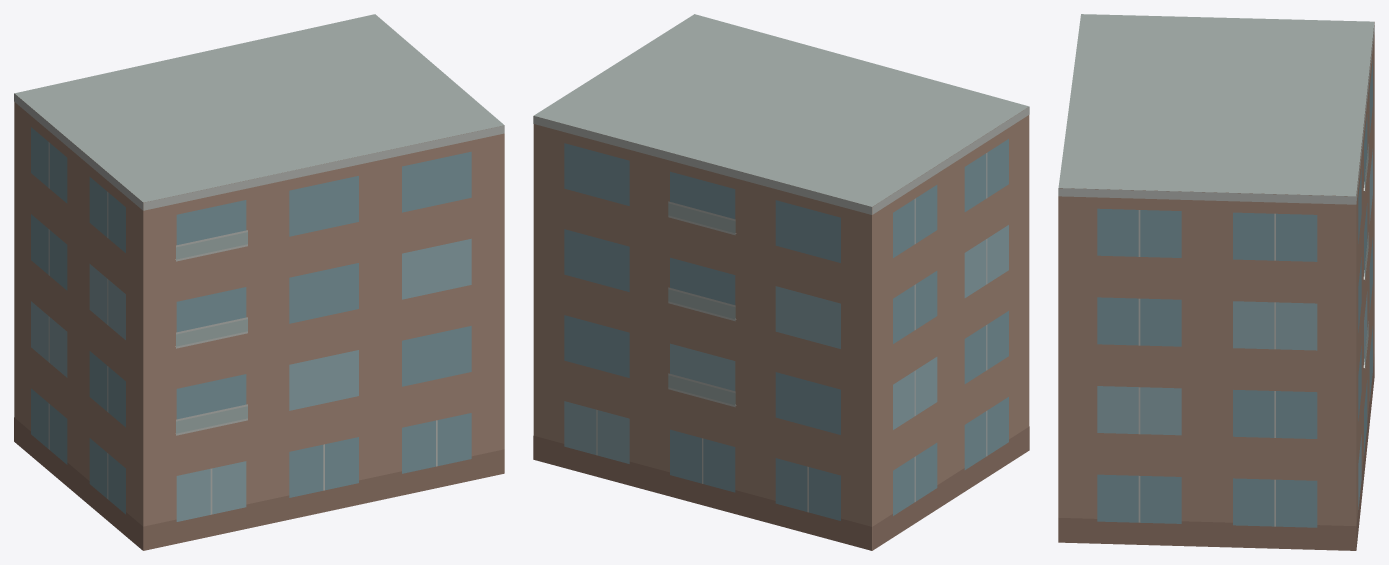
File: survey-upis-32752503.glb
3 views of the same model, side by side, from view 1: azimuth 30°, elevation 25°; view 2: azimuth 150°, elevation 25°; view 3: azimuth 270°, elevation 25° (orthographic). The views are drawn at different scales.
Parts seen in each view (by area): view 1: survey-upis-32752503.tmp; view 2: survey-upis-32752503.tmp; view 3: survey-upis-32752503.tmp.
Boxes of the visible parts, x1,y1,x2,y2 form: survey-upis-32752503.tmp: (14,14,504,550); survey-upis-32752503.tmp: (533,14,1029,550); survey-upis-32752503.tmp: (1058,14,1374,550).
Size of the model in its own units: 11.37 by 10.3 by 8.33.
